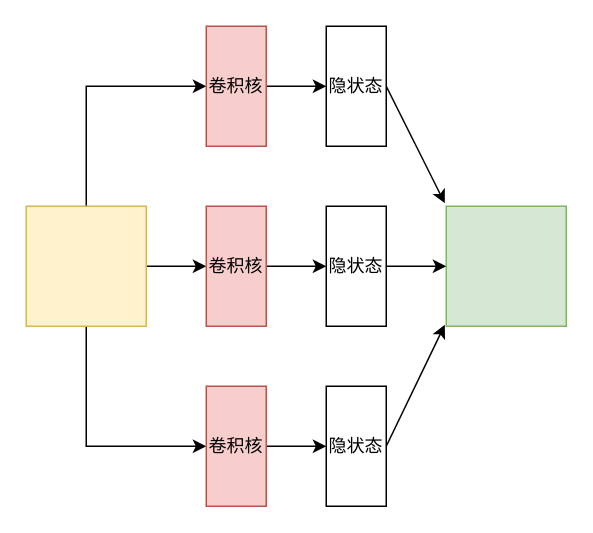
The diagram is 593 pixels wide and 533 high, and some of its shapes have lost their labels. Here are the shapes that lost their labels. From the top down, the centre of each, then its label:
point 85,265: image
point 505,265: 图片特征
